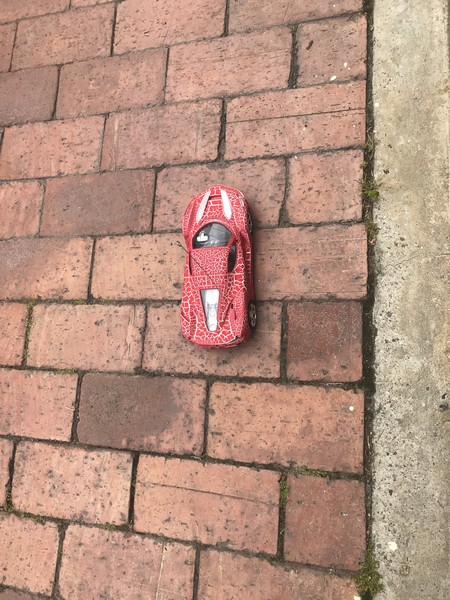RC: (177, 184, 259, 354)
